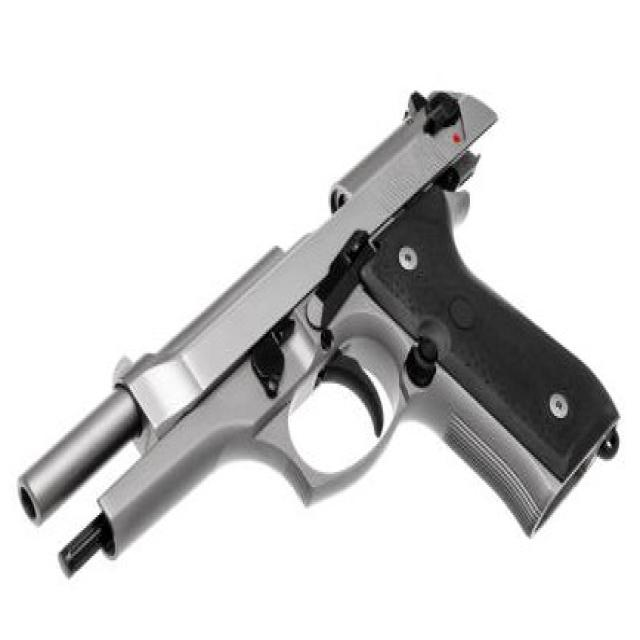pistol: (11, 62, 626, 593)
